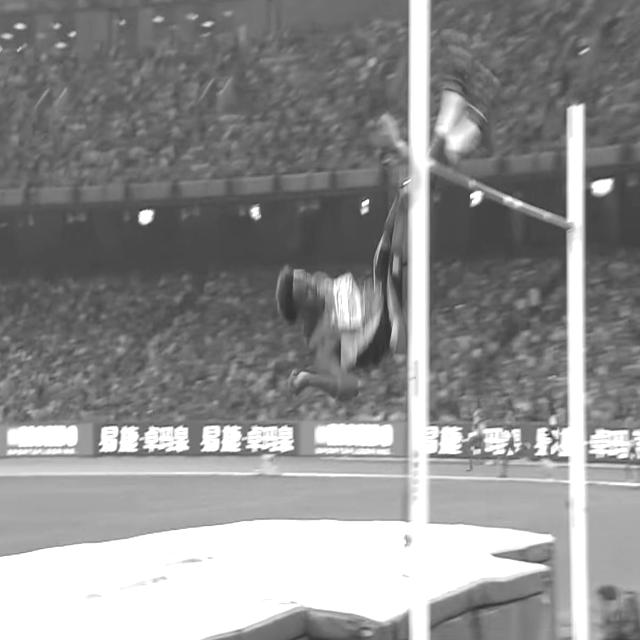land: (275, 48, 498, 400)
